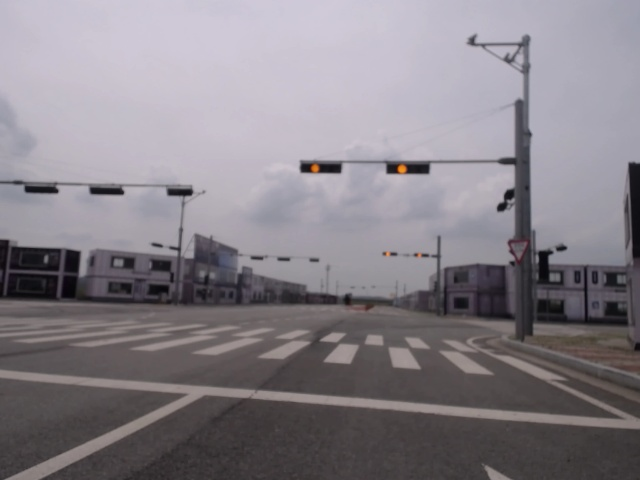orange_4: (300, 158, 343, 176), (384, 160, 431, 176), (412, 252, 432, 260), (380, 250, 401, 257)
